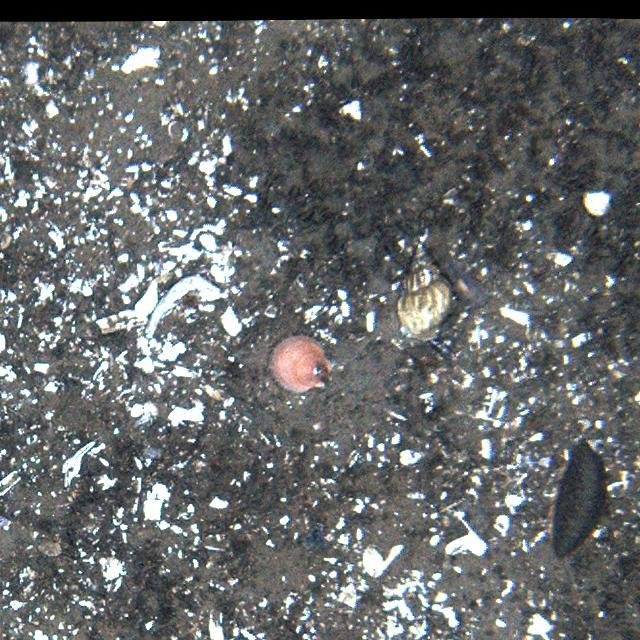whelk: (397, 246, 454, 333)
